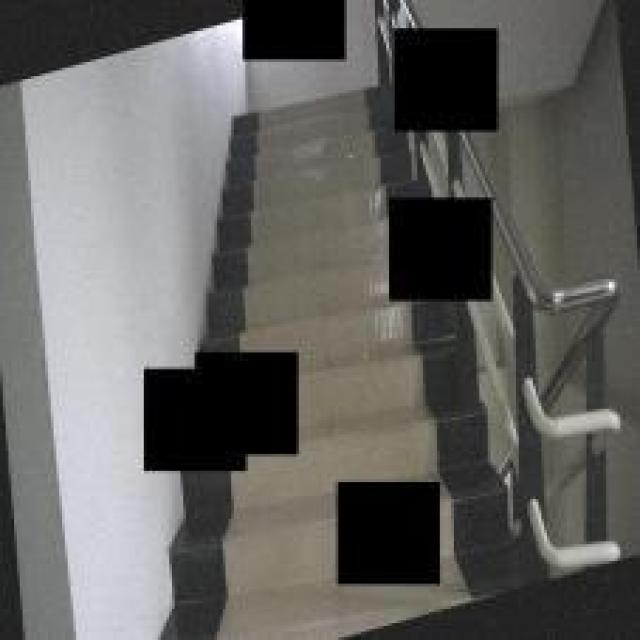upstair: (213, 83, 385, 331)
